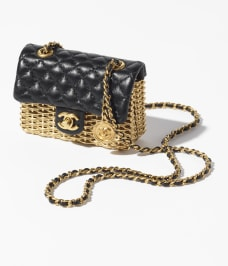channel: (14, 27, 155, 156), (55, 111, 78, 136)
